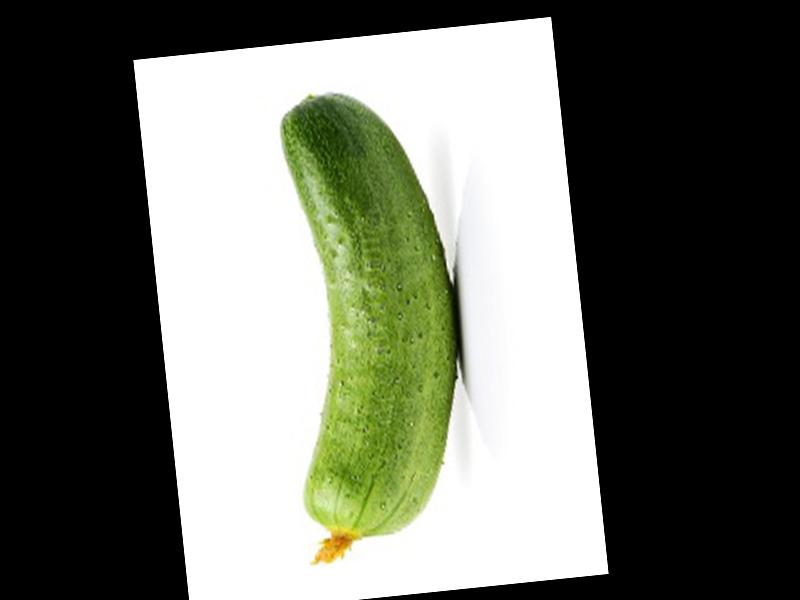Cucumber: (260, 80, 482, 569)
